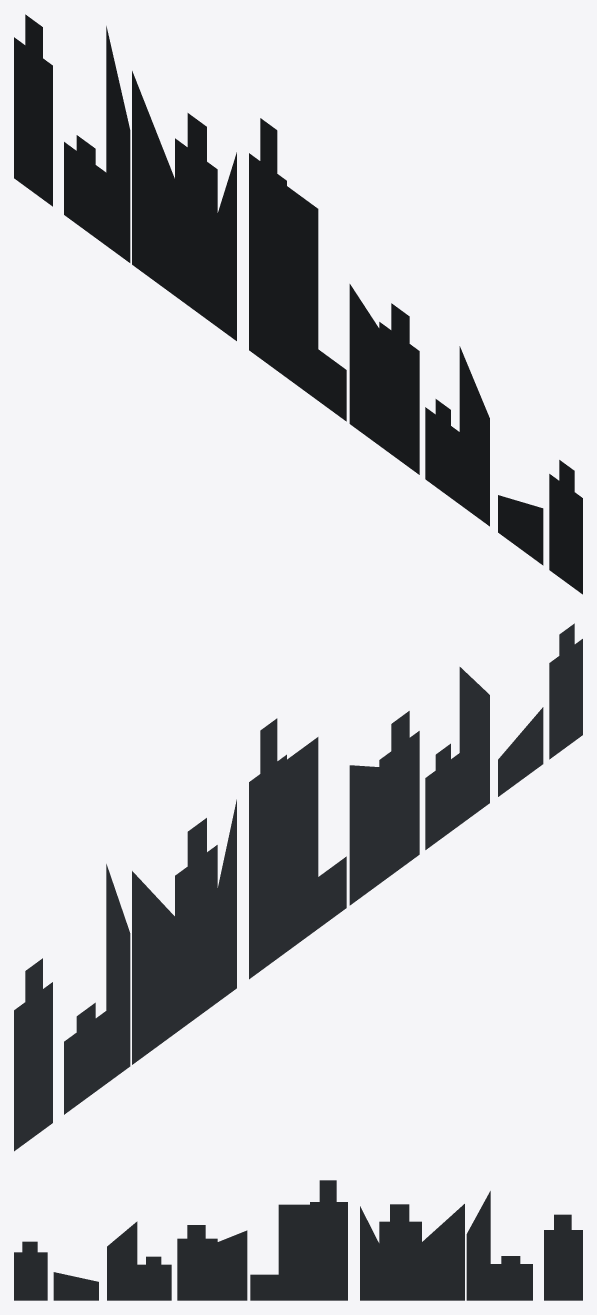
The model's file is env_shore_card_c.fbx.
3 renders of one model, top to bottom at view 1: azimuth 30°, elevation 25°; view 2: azimuth 150°, elevation 25°; view 3: azimuth 270°, elevation 25°, orthographic. The views are drawn at different scales.
Visible parts, largest first — view 1: env_shore_card_c; view 2: env_shore_card_c; view 3: env_shore_card_c.
Boxes of the visible parts, bbox=[...] form: env_shore_card_c: bbox=[14, 14, 582, 594]; env_shore_card_c: bbox=[14, 623, 582, 1151]; env_shore_card_c: bbox=[14, 1180, 582, 1300].
Bounding box in the file's own units: 0 × 9802 × 42000.
